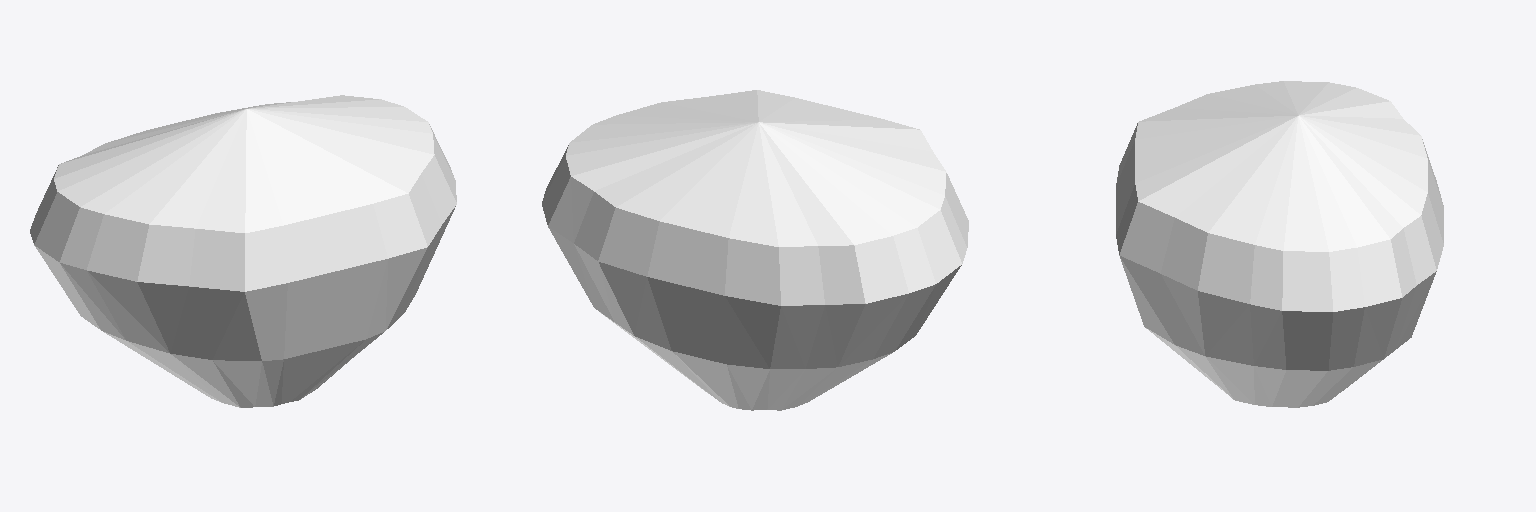
The model's file is LowTorso.obj.
3 views of the same model, side by side, from view 1: azimuth 30°, elevation 25°; view 2: azimuth 150°, elevation 25°; view 3: azimuth 270°, elevation 25° (orthographic).
Visible parts, largest first — view 1: Lowertorso1; view 2: Lowertorso1; view 3: Lowertorso1.
Boxes of the visible parts, <box> form: Lowertorso1: <box>30,95,456,407</box>; Lowertorso1: <box>542,90,968,410</box>; Lowertorso1: <box>1116,81,1443,407</box>.
Size of the model in its own units: 3.65 by 2.51 by 2.66.